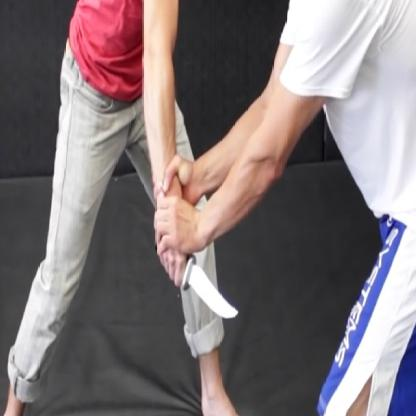knife: (157, 247, 244, 324)
